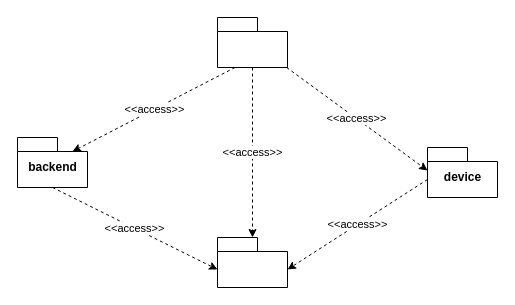
Image size: 515x305. Some labels were removed from this diagram. The centre of each missing label's shape, as x and y in pixels:
"common" goes at (x=252, y=262).
"launch" goes at (x=252, y=42).
